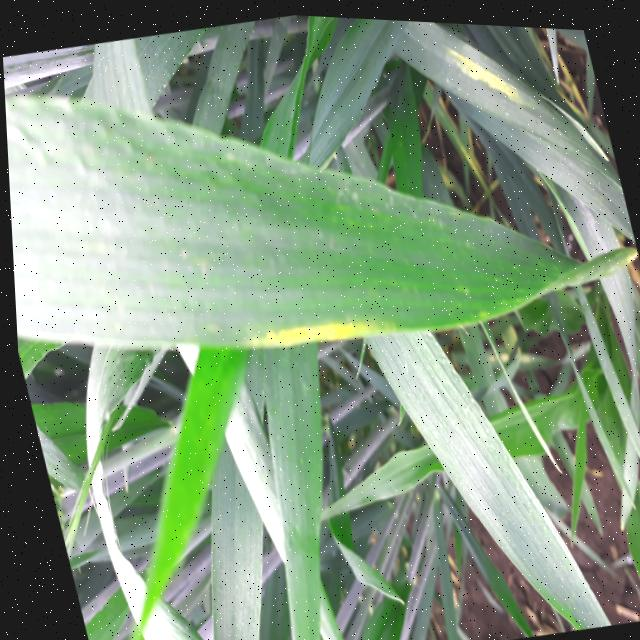yellow_rust: (0, 0, 640, 412)
